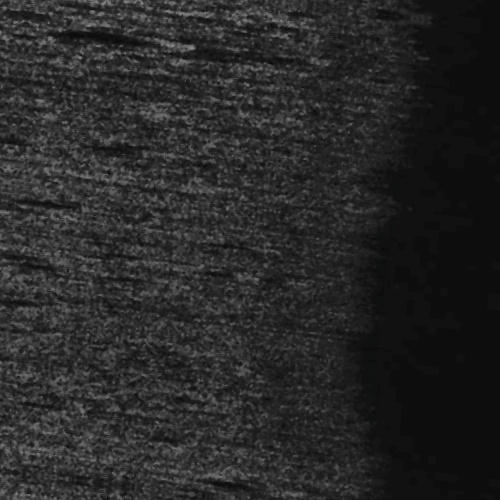object: (102, 43, 165, 60)
shadow: (15, 43, 133, 60)
